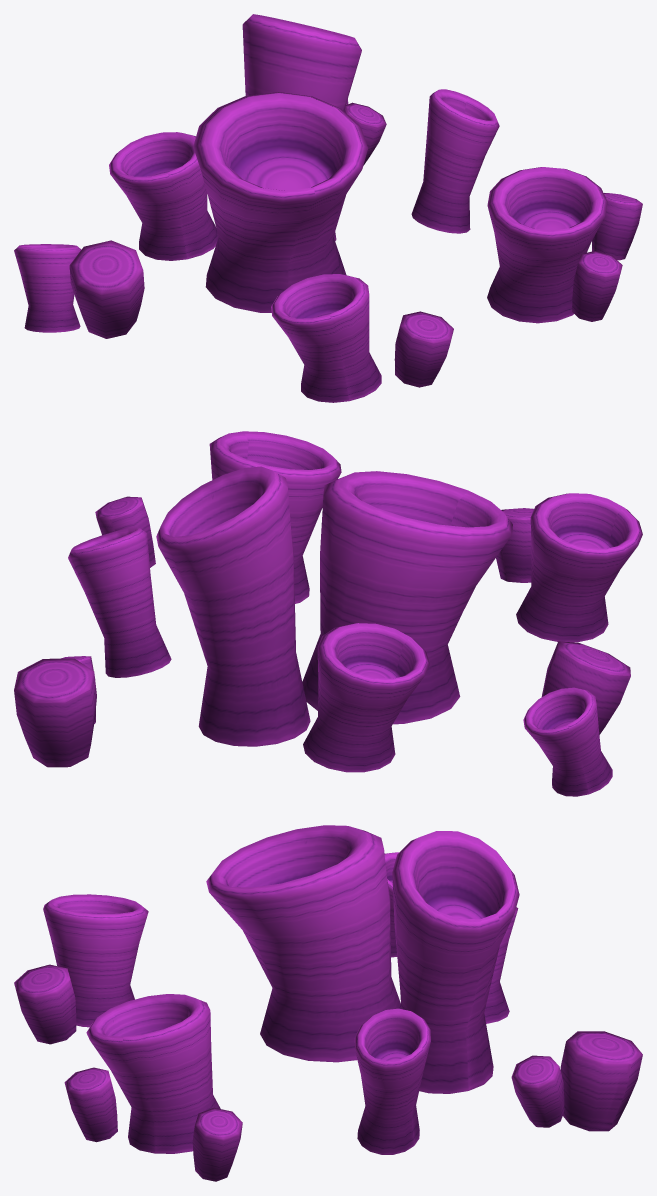
Rendered from PurpleCluster1.fbx.
The picture shows the model from 3 angles, top to bottom: view 1: azimuth 30°, elevation 25°; view 2: azimuth 150°, elevation 25°; view 3: azimuth 270°, elevation 25°; orthographic projection. The views are drawn at different scales.
Parts seen in each view (by area): view 1: PurpleCluster1; view 2: PurpleCluster1; view 3: PurpleCluster1.
Part boxes in pixels (x1,y1,x2,y2): PurpleCluster1: (14,14,642,402); PurpleCluster1: (14,431,642,796); PurpleCluster1: (14,825,642,1181).
Size of the model in its own units: 85.49 by 35.65 by 83.17.
Materials: 1 (1 with a texture image).
